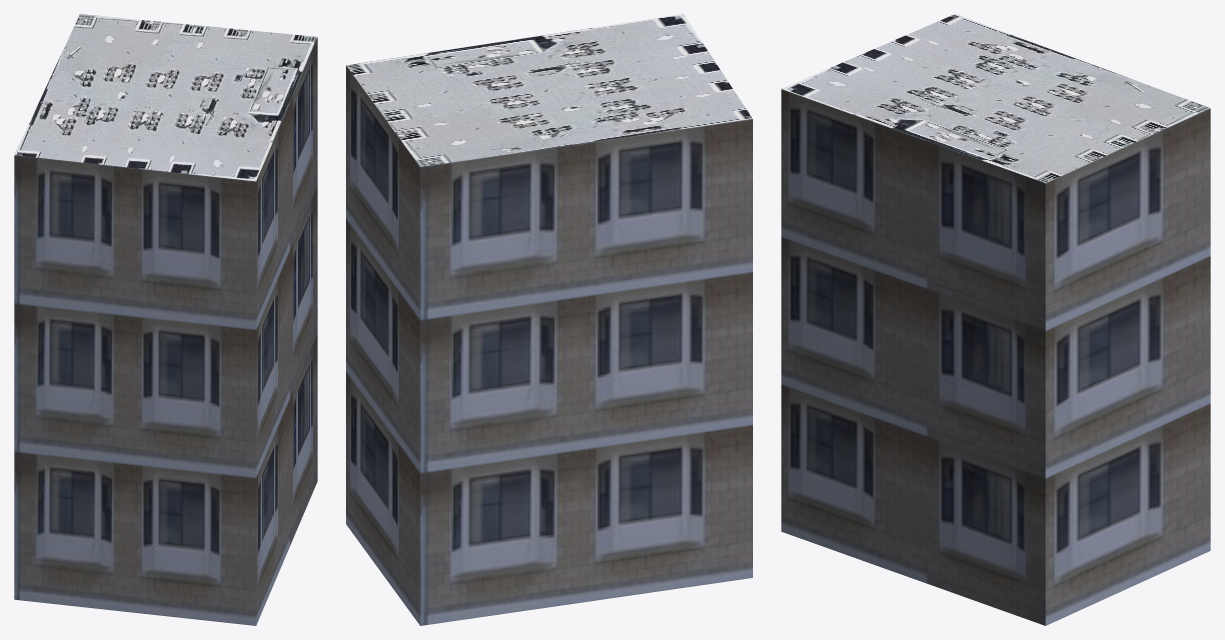
Rendered from ResTex__4365.fbx.
3 renders of one model, left to right at view 1: azimuth 30°, elevation 25°; view 2: azimuth 150°, elevation 25°; view 3: azimuth 270°, elevation 25°, orthographic. The views are drawn at different scales.
Visible parts, largest first — view 1: CityEngineMaterial_3_m, CityEngineMaterial_m; view 2: CityEngineMaterial_3_m, CityEngineMaterial_m; view 3: CityEngineMaterial_3_m, CityEngineMaterial_m.
Part boxes in pixels (left/top/right/bottom): CityEngineMaterial_3_m: left=14, top=37, right=317, bottom=625; CityEngineMaterial_m: left=14, top=14, right=317, bottom=181; CityEngineMaterial_3_m: left=346, top=65, right=752, bottom=625; CityEngineMaterial_m: left=346, top=14, right=752, bottom=166; CityEngineMaterial_3_m: left=781, top=89, right=1210, bottom=625; CityEngineMaterial_m: left=782, top=14, right=1210, bottom=183.
Size of the model in its own units: 7.39 by 9 by 7.91.
2 materials, 2 textured.
